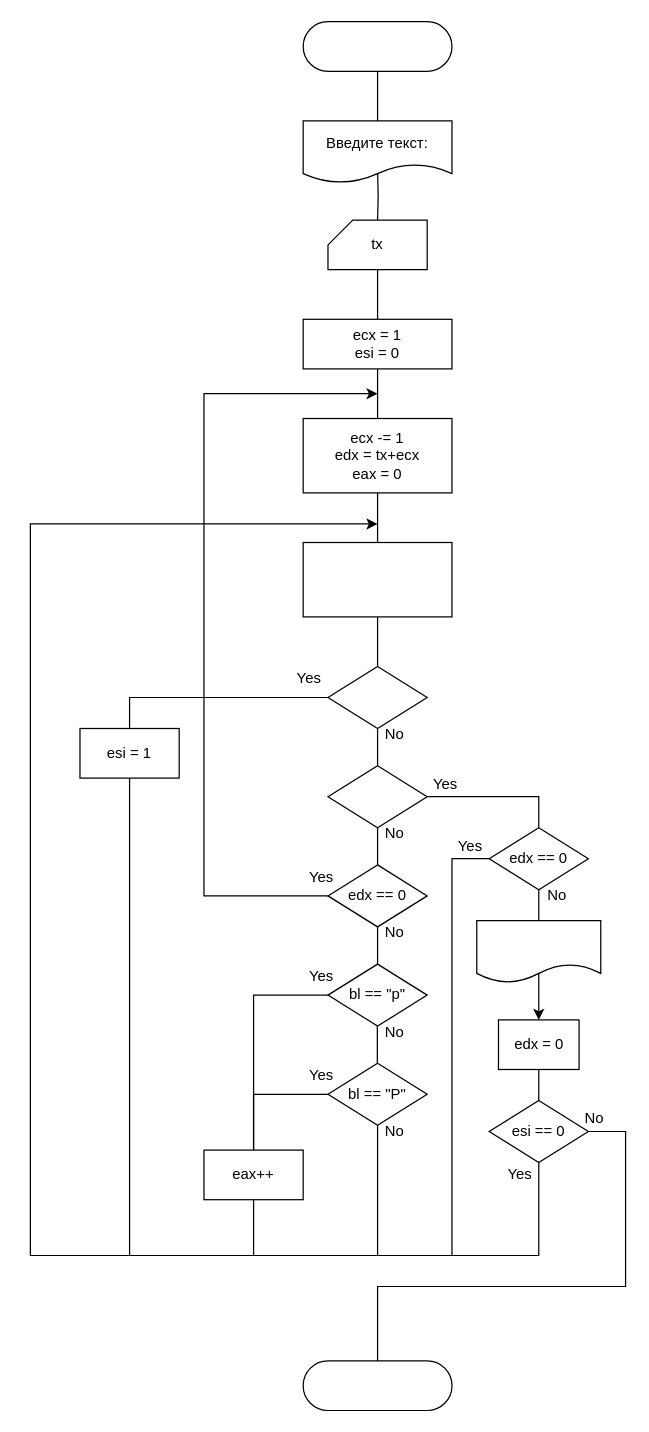
Image size: 649x1432. Some labels were removed from this diagram. The shapes that lost their labels are listed below. From the top down, each one's box as (x1, y1, x2, y2) in pixels, then its label:
(302, 20, 452, 71): Начало
(302, 541, 452, 617): bl = [tx+ecx] ecx ++
(327, 665, 427, 728): bl == 10
(327, 764, 427, 828): bl == " "
(476, 919, 601, 983): tx, txi
(302, 1360, 452, 1410): Конец
